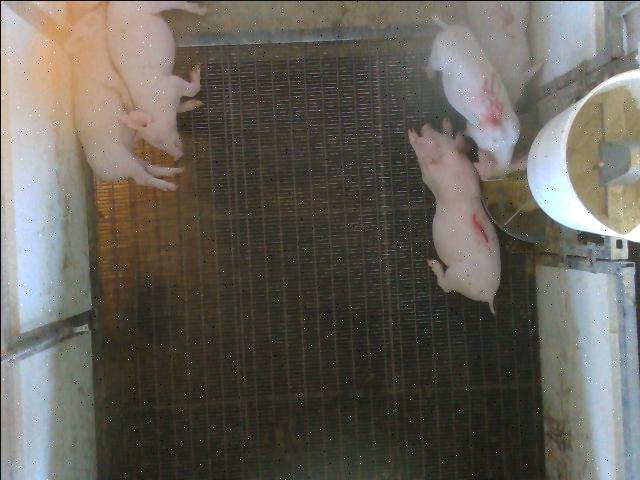pig-1: (408, 119, 500, 312)
pig-3: (466, 2, 541, 105)
pig-5: (429, 16, 524, 177)
